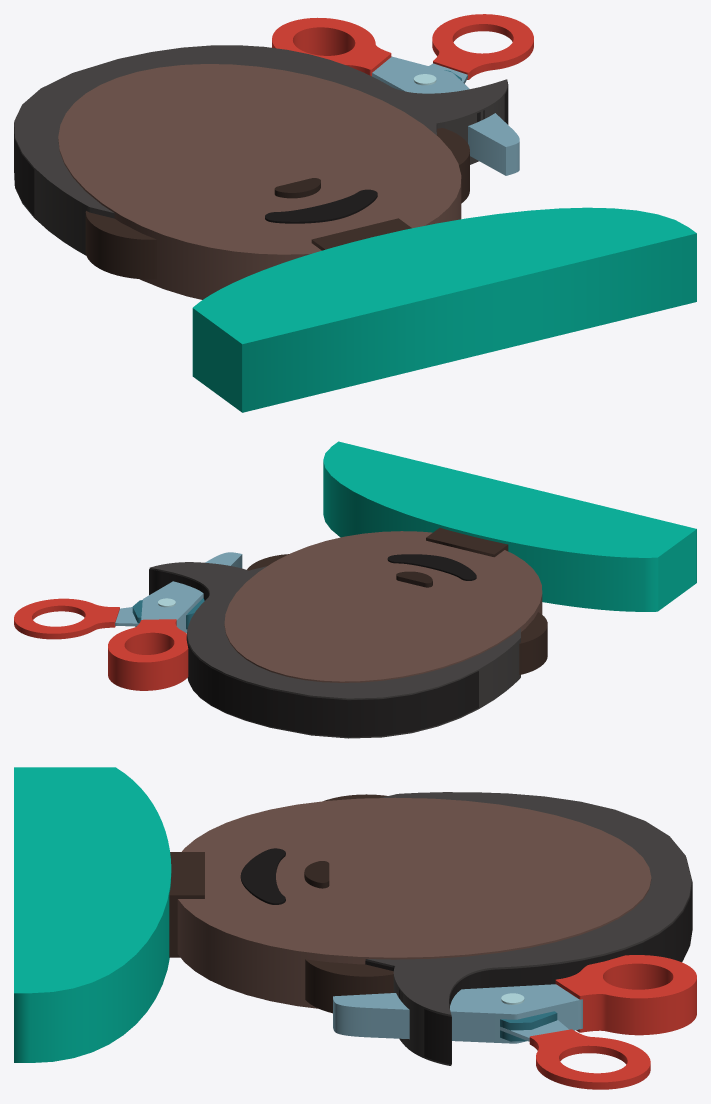
Rendered from emoji_u1f487_1f3ff_200d_2642.glb.
The picture shows the model from 3 angles, top to bottom: view 1: azimuth 30°, elevation 25°; view 2: azimuth 150°, elevation 25°; view 3: azimuth 270°, elevation 25°; orthographic projection. The views are drawn at different scales.
Parts seen in each view (by area): view 1: emoji_u1f487_1f3ff_200d_2642; view 2: emoji_u1f487_1f3ff_200d_2642; view 3: emoji_u1f487_1f3ff_200d_2642.
Boxes of the visible parts, <box> form: emoji_u1f487_1f3ff_200d_2642: <box>14,14,696,412</box>; emoji_u1f487_1f3ff_200d_2642: <box>14,441,696,738</box>; emoji_u1f487_1f3ff_200d_2642: <box>14,767,696,1089</box>.
Bounding box in the file's own units: 0.0331 × 0.0038 × 0.0337.
